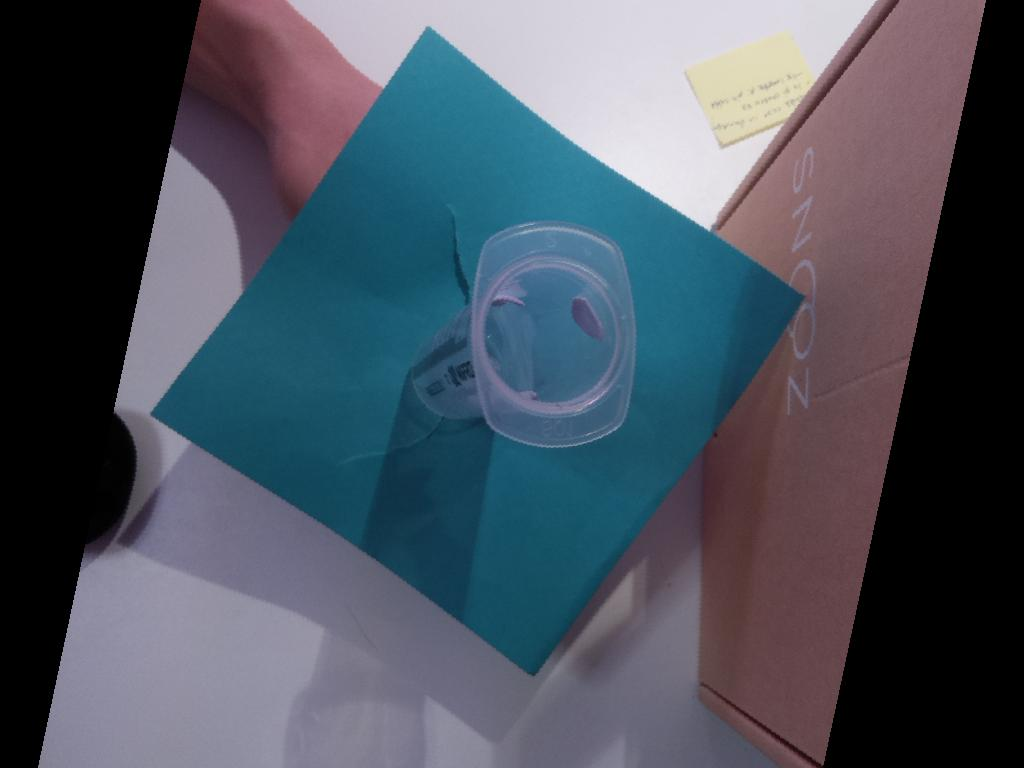dirty: (470, 221, 639, 449)
